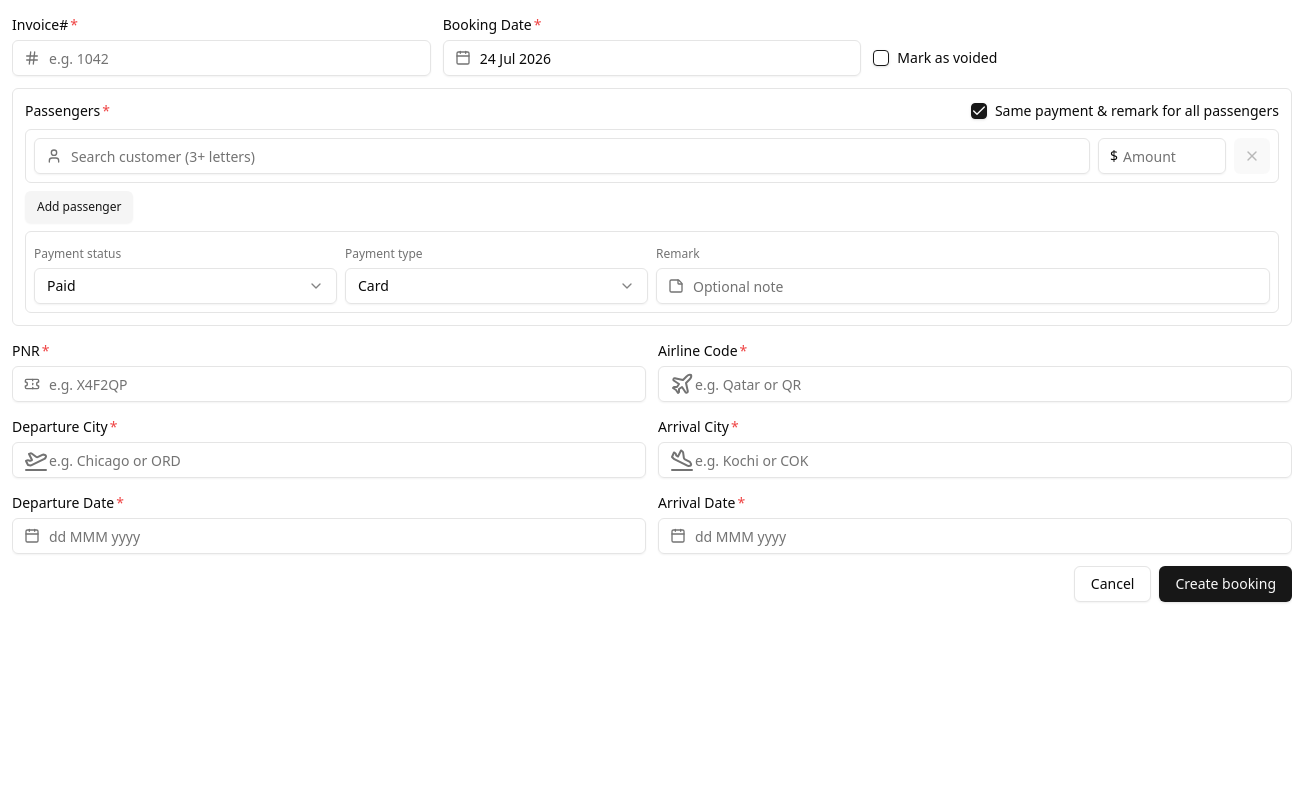
Test: BookingForm booking date › a linked passenger name is read-only and changeable only via Change customer
In the dropdown named "Passenger name": x=562, y=156 [34,138,1090,174], type "Jane"
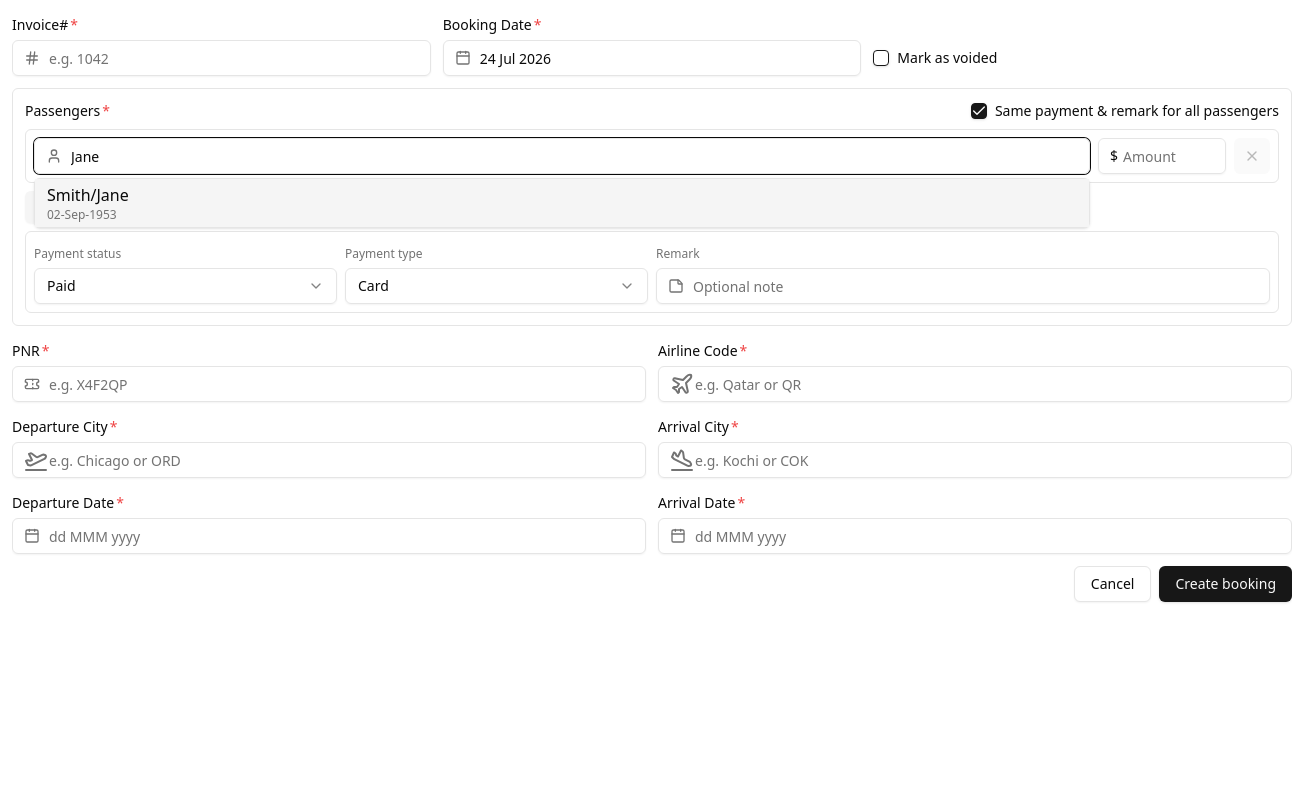
Click the text "Smith/Jane": x=88, y=195 [47,184,129,206]
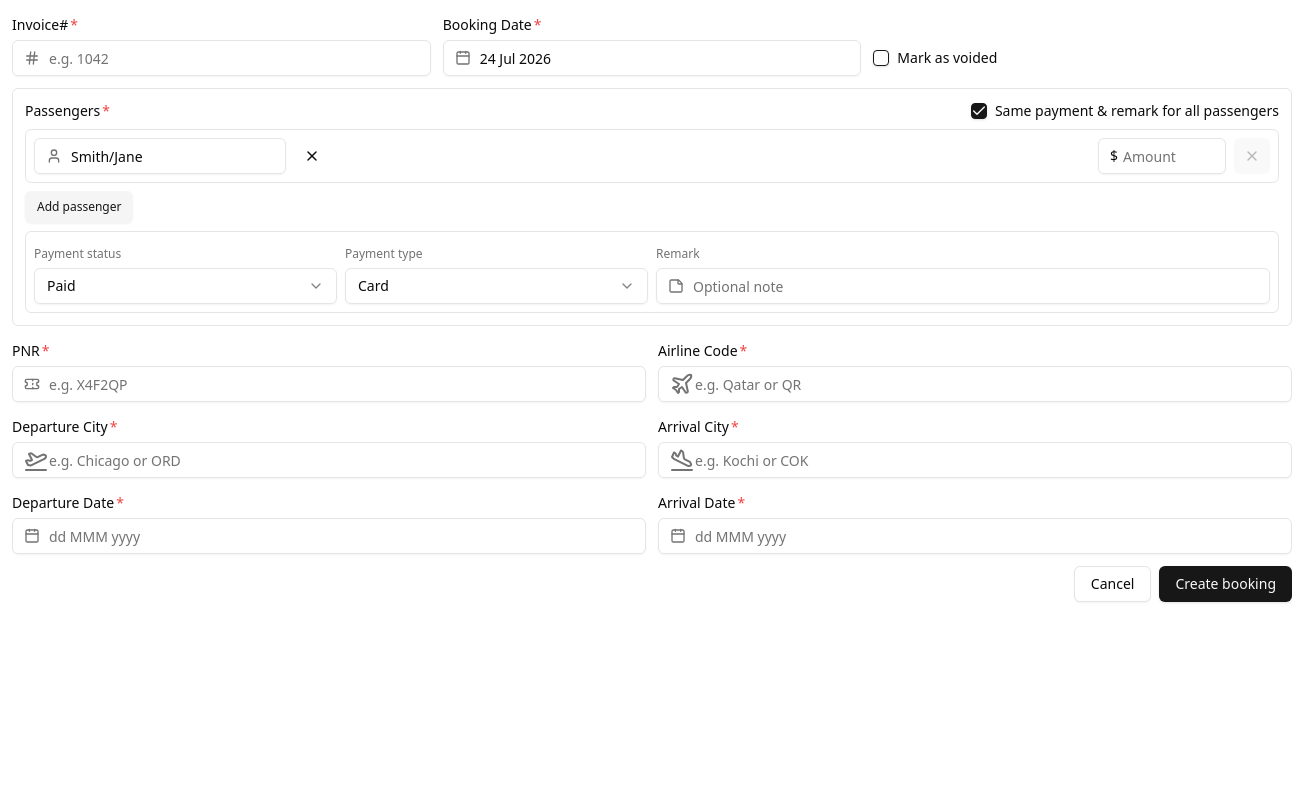
Expected: the field named "Passenger name" holds "Smith/Jane", [34,138,286,174]
Click the button named "Change customer for passenger 1": x=312, y=156 [294,138,330,174]
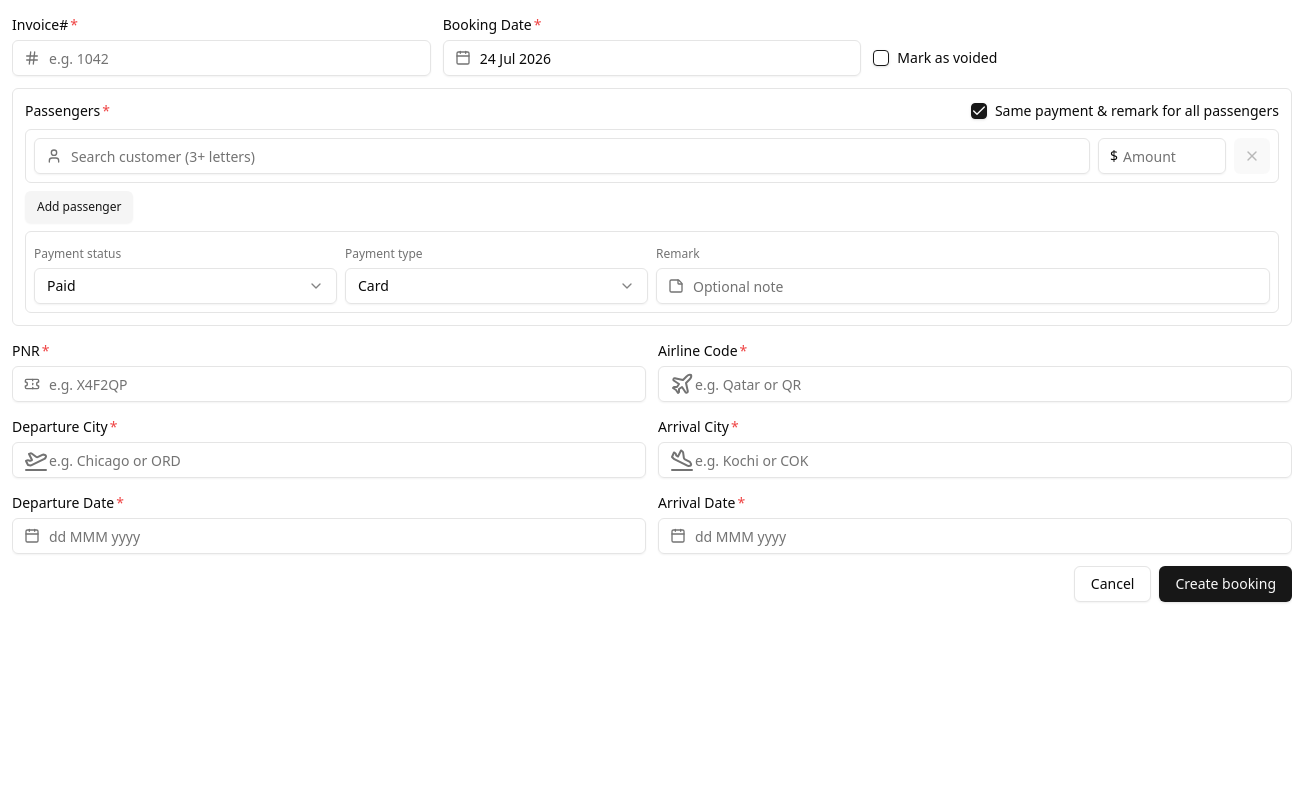
In the dropdown named "Passenger name": x=562, y=156 [34,138,1090,174], type "John"
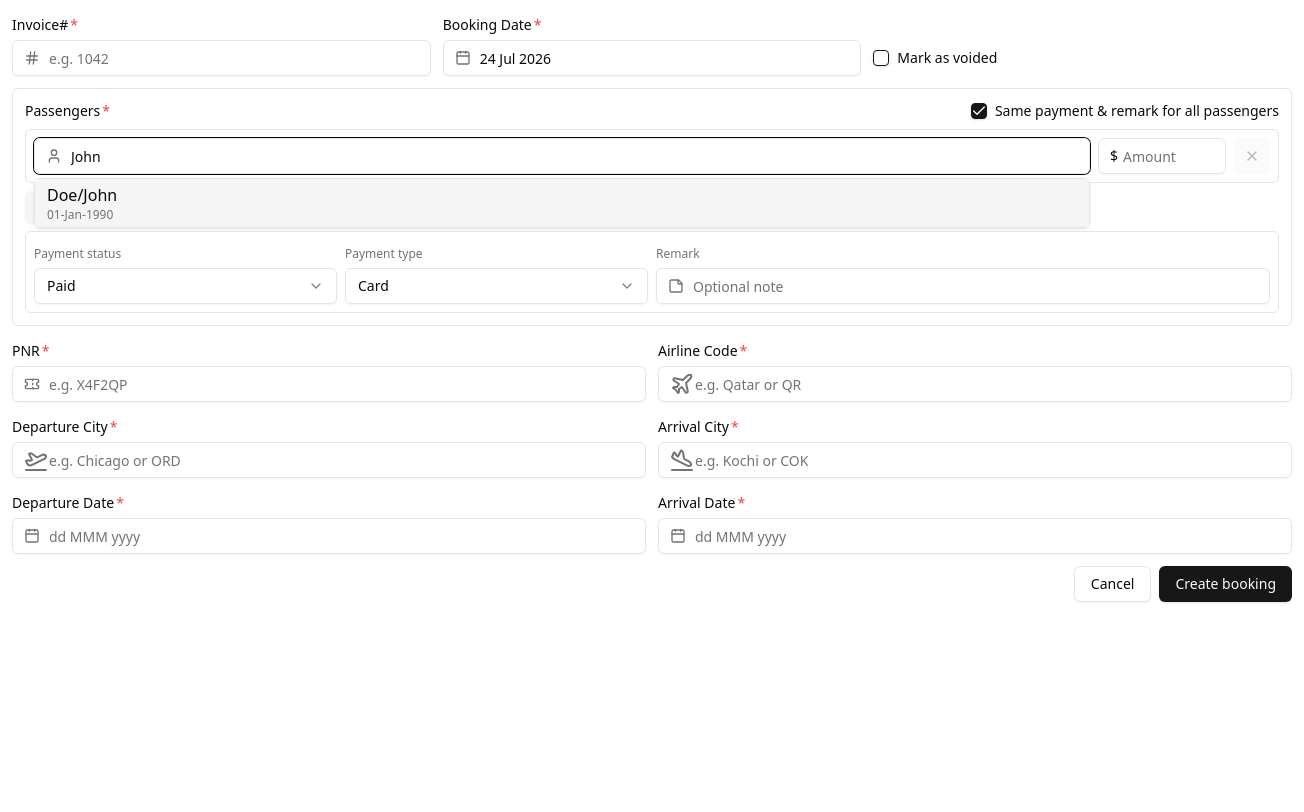
Click the text "Doe/John": x=82, y=195 [47,184,117,206]
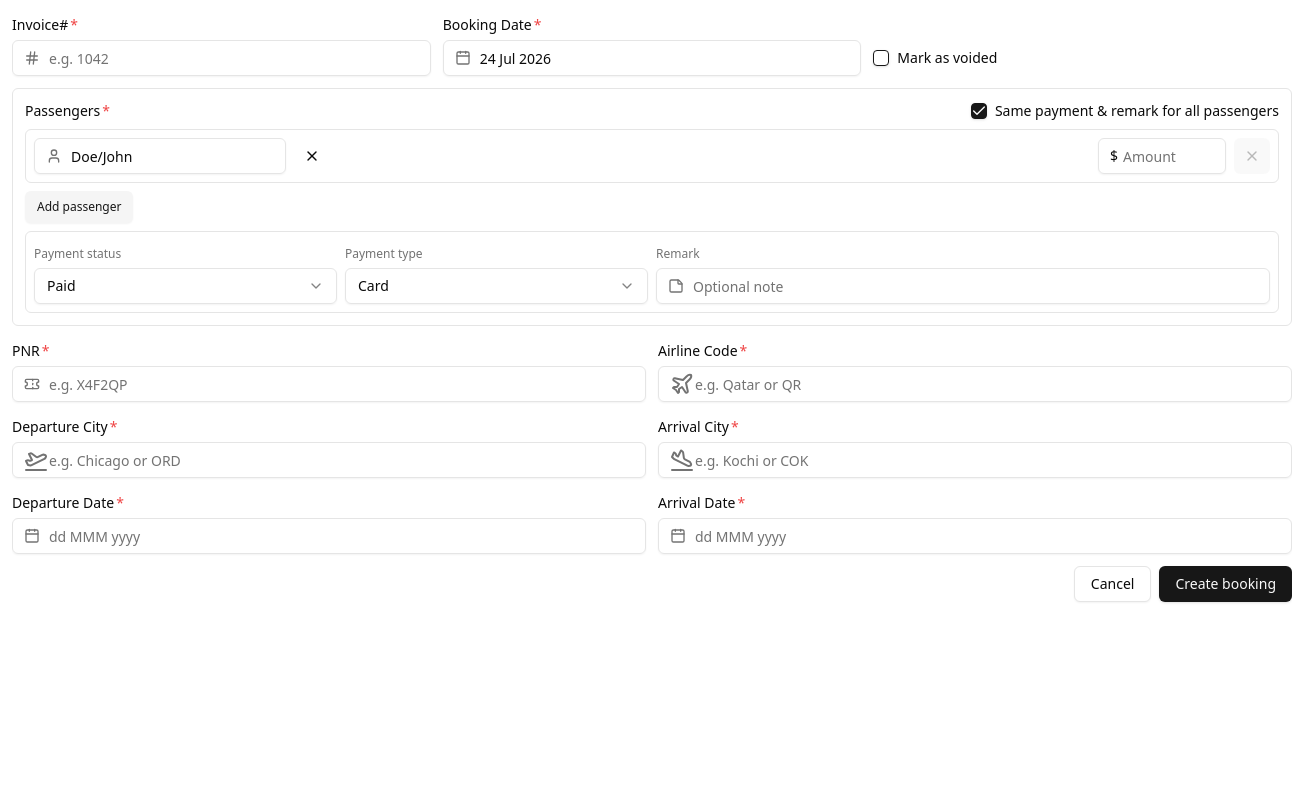
Expected: the field named "Passenger name" holds "Doe/John", [34,138,286,174]
